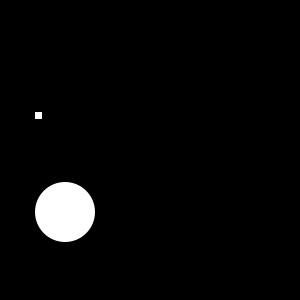circle: (35, 112, 42, 119)
rectangle: (35, 182, 95, 242)
